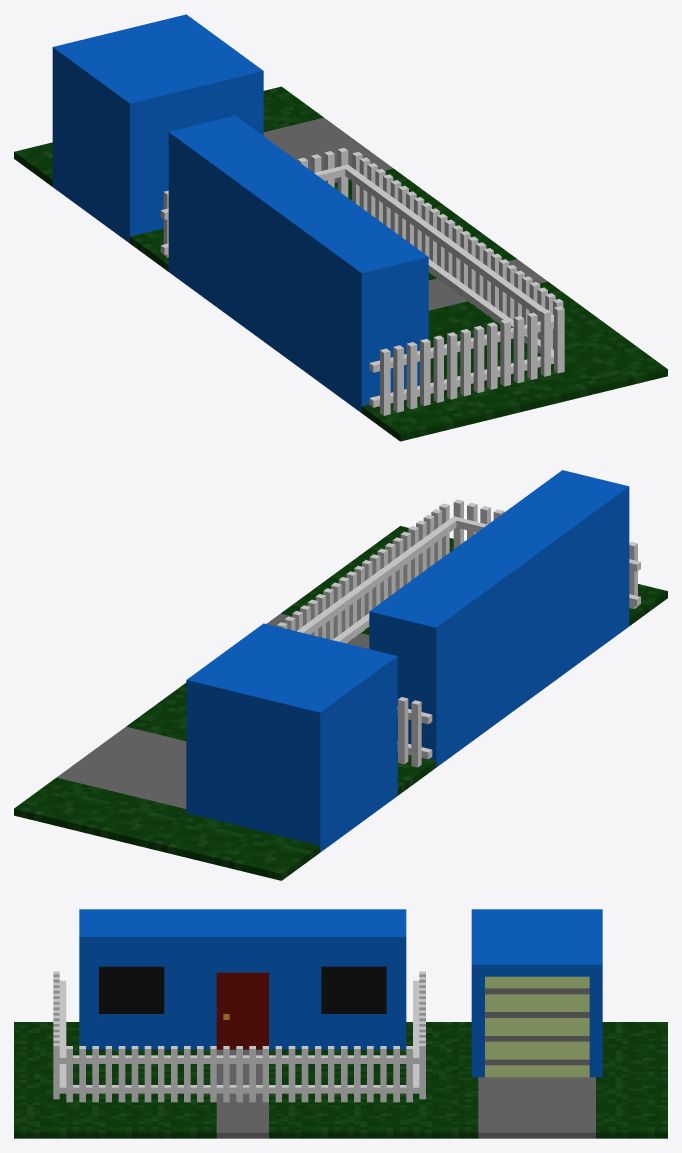
File: house_blue.fbx
The picture shows the model from 3 angles, top to bottom: view 1: azimuth 30°, elevation 25°; view 2: azimuth 150°, elevation 25°; view 3: azimuth 270°, elevation 25°; orthographic projection. The views are drawn at different scales.
Visible parts, largest first — view 1: Union; view 2: Union; view 3: Union.
Part boxes in pixels (x1,y1,x2,y2): Union: (14,14,667,441); Union: (14,470,667,880); Union: (14,909,667,1138).
Size of the model in its own units: 40 by 20 by 100.
